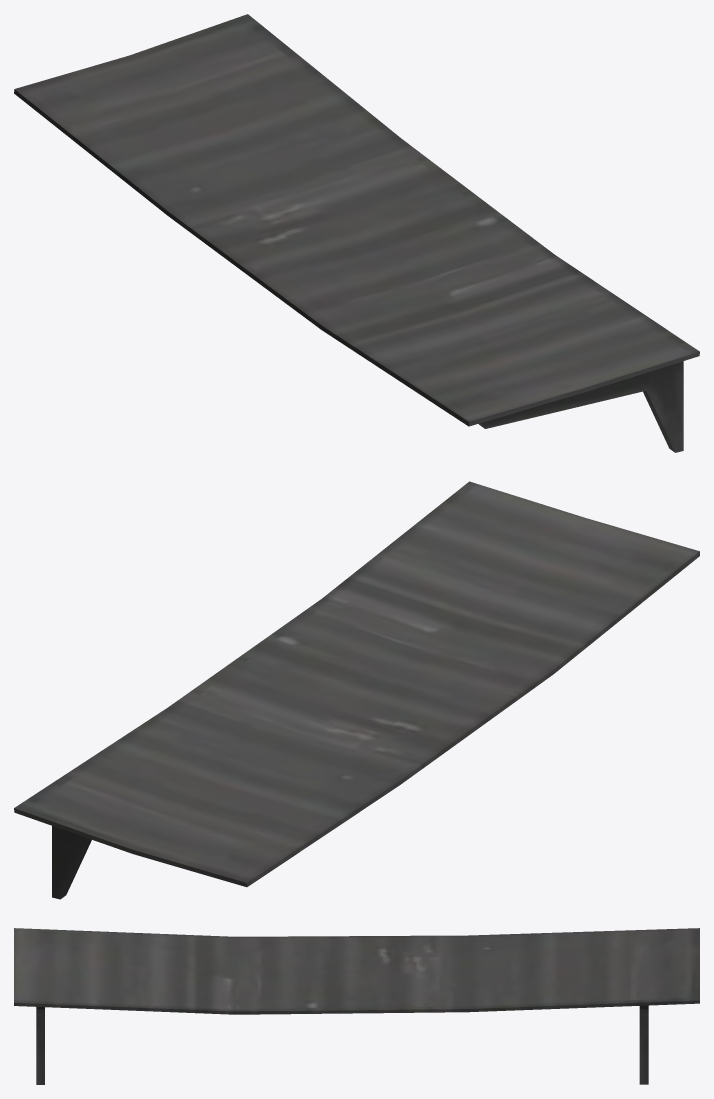
3 renders of one model, top to bottom at view 1: azimuth 30°, elevation 25°; view 2: azimuth 150°, elevation 25°; view 3: azimuth 270°, elevation 25°, orthographic. The views are drawn at different scales.
Parts seen in each view (by area): view 1: body0_model0_lod0_mesh0; view 2: body0_model0_lod0_mesh0; view 3: body0_model0_lod0_mesh0.
Part boxes in pixels (box(x1,y1,x2,y2)): body0_model0_lod0_mesh0: box(14, 14, 699, 452); body0_model0_lod0_mesh0: box(14, 481, 699, 899); body0_model0_lod0_mesh0: box(14, 928, 699, 1084).
Bounding box in the file's own units: 37.43 × 17.41 × 126.
1 material, 1 textured.
